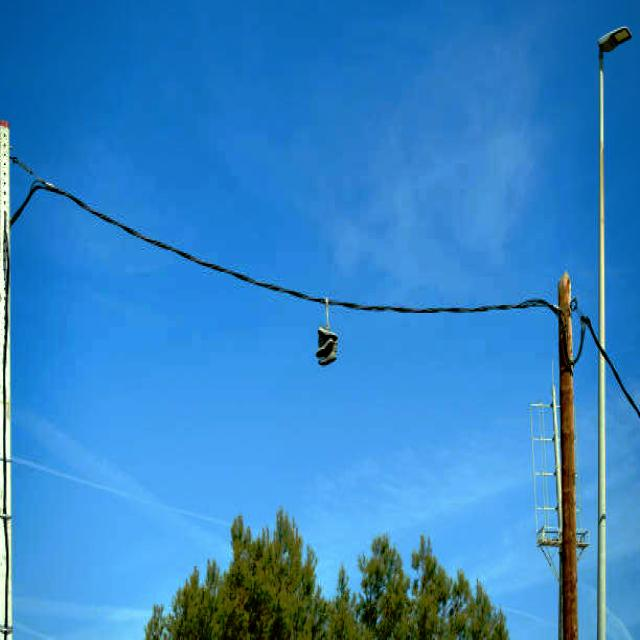obstruction: (304, 297, 342, 368)
poles: (0, 124, 14, 638), (561, 275, 579, 591)
wires: (15, 159, 273, 286), (344, 303, 562, 337)
